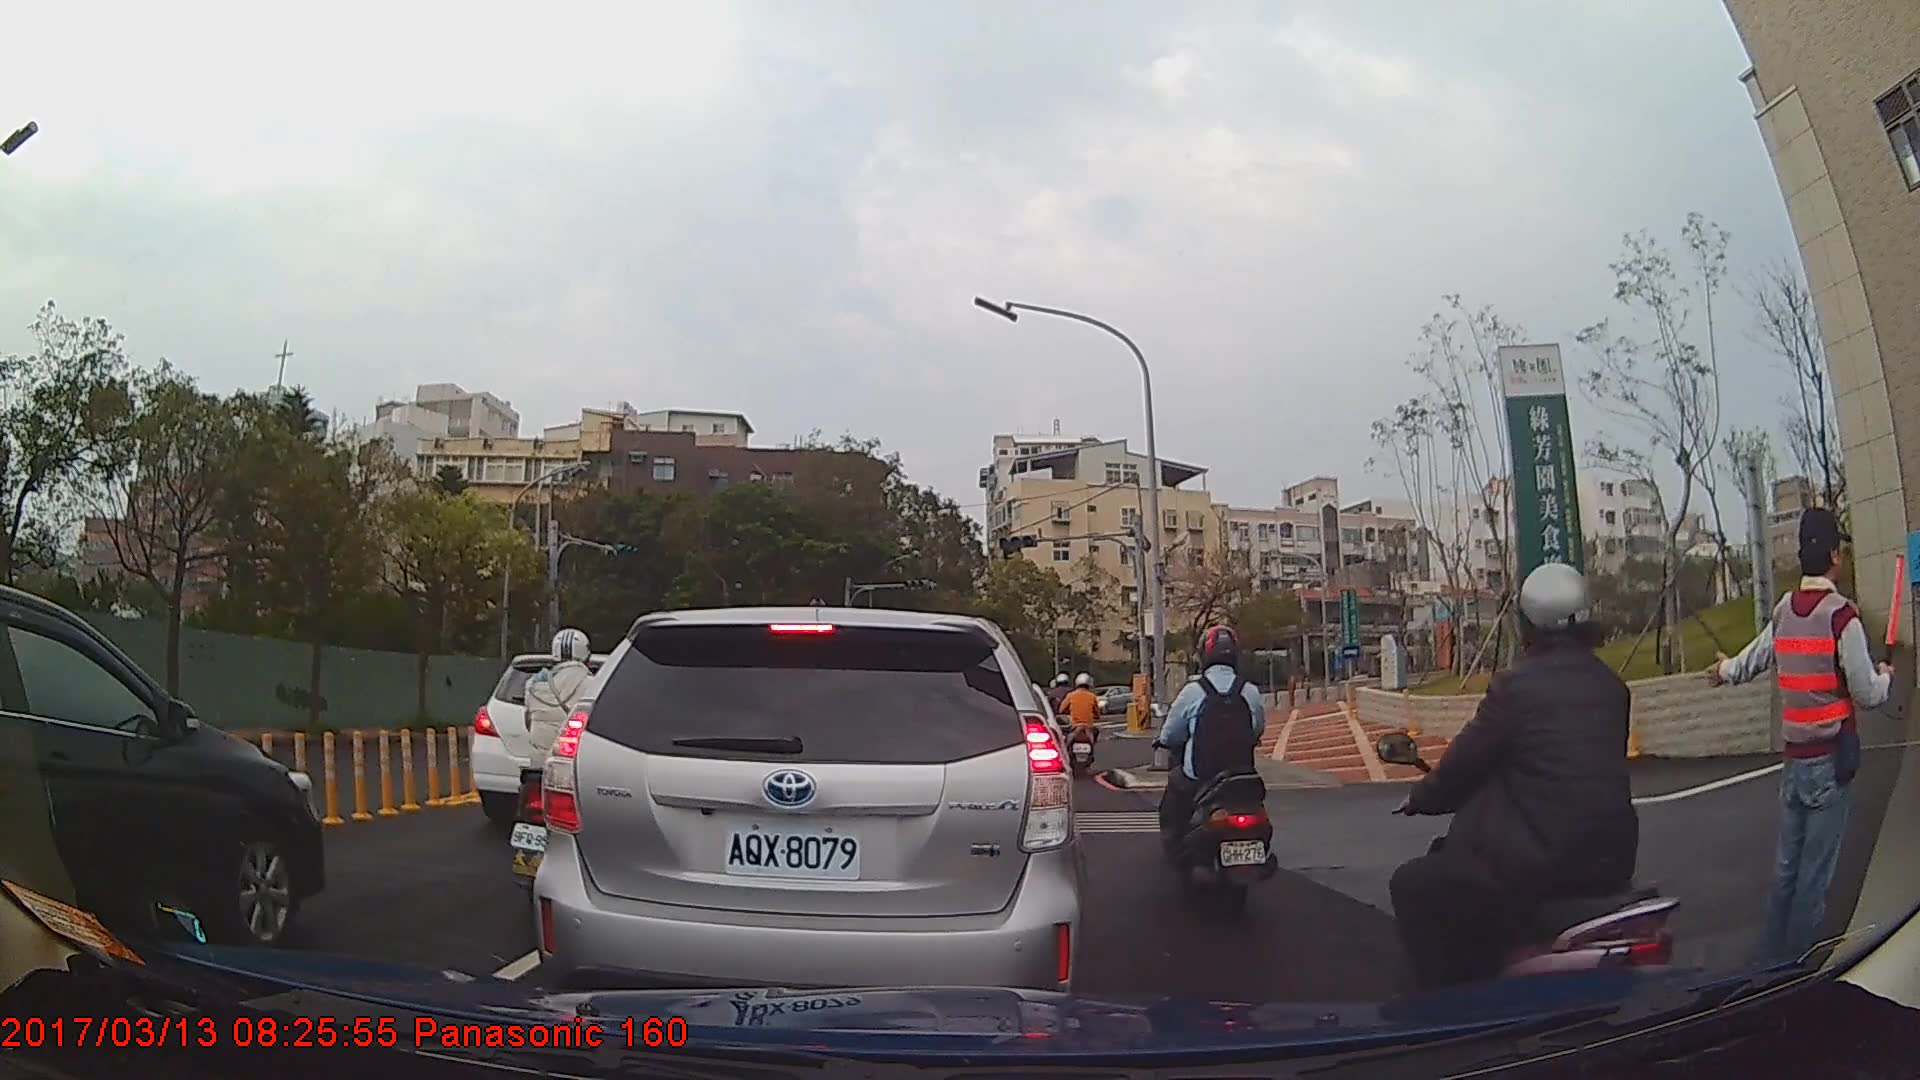pedestrian: (1708, 506, 1894, 999)
rider: (1380, 563, 1678, 1054), (1152, 626, 1270, 921), (1061, 671, 1104, 769)
vehicle: (531, 604, 1086, 1015), (0, 579, 323, 963)
